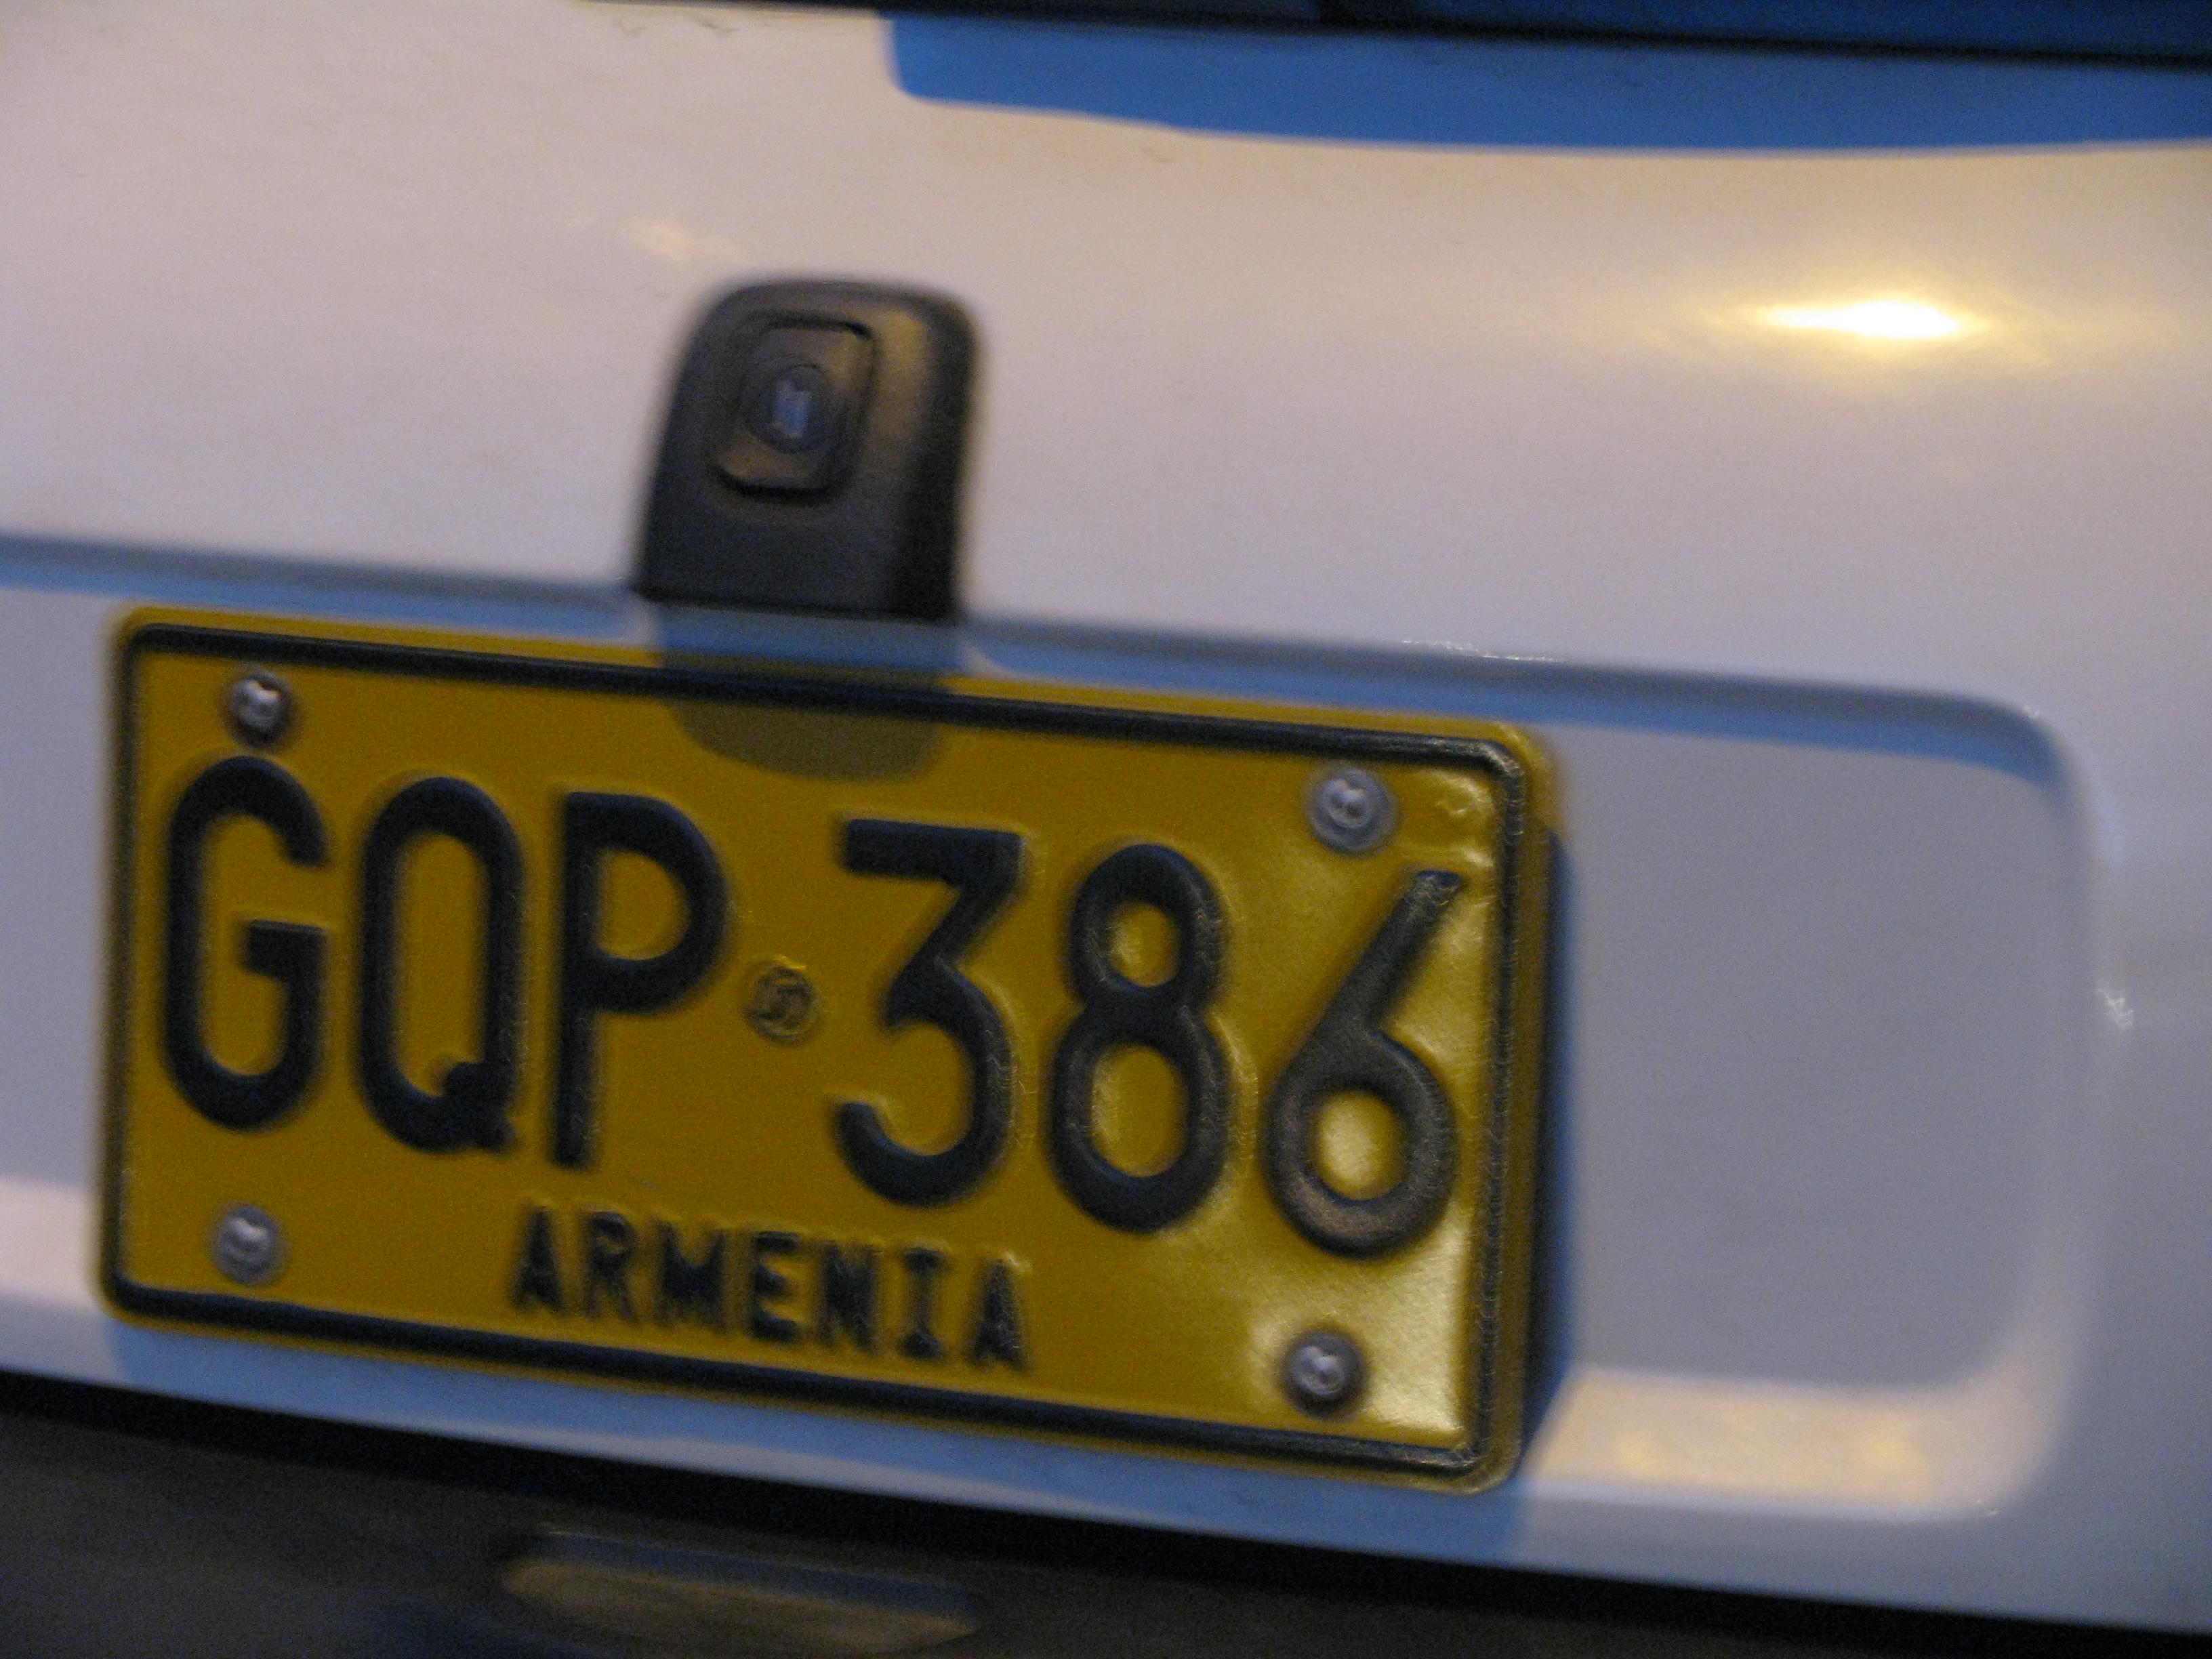placas: (77, 583, 1567, 1510)
